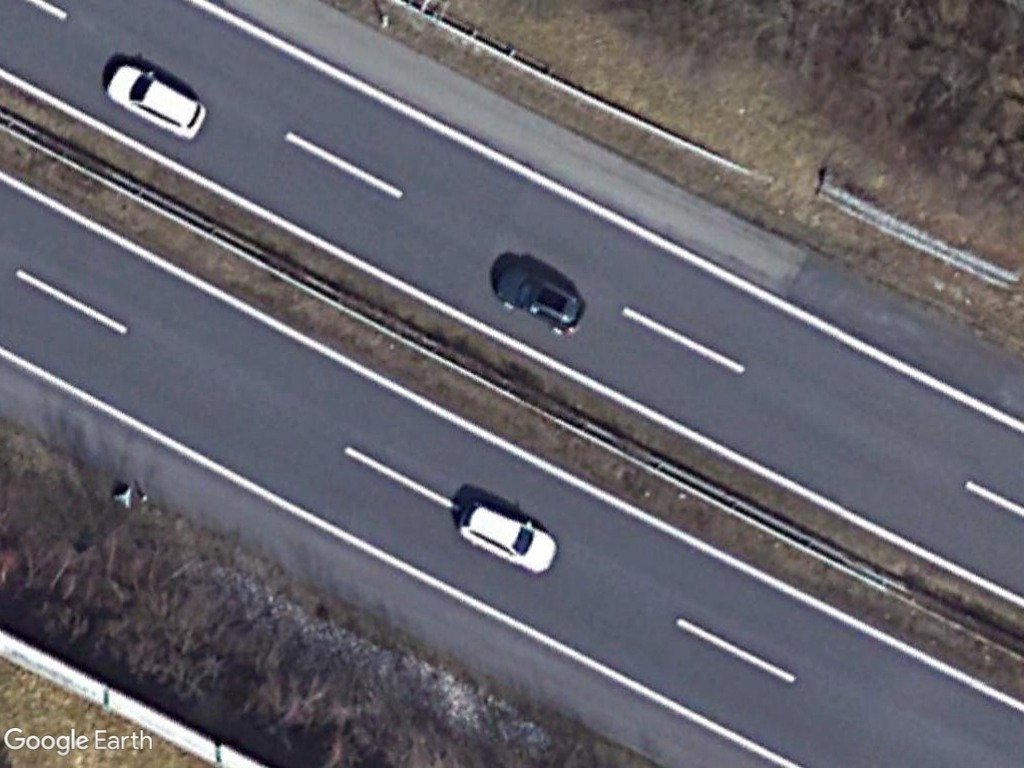car: (106, 63, 211, 142), (455, 502, 563, 577), (493, 265, 590, 335)
